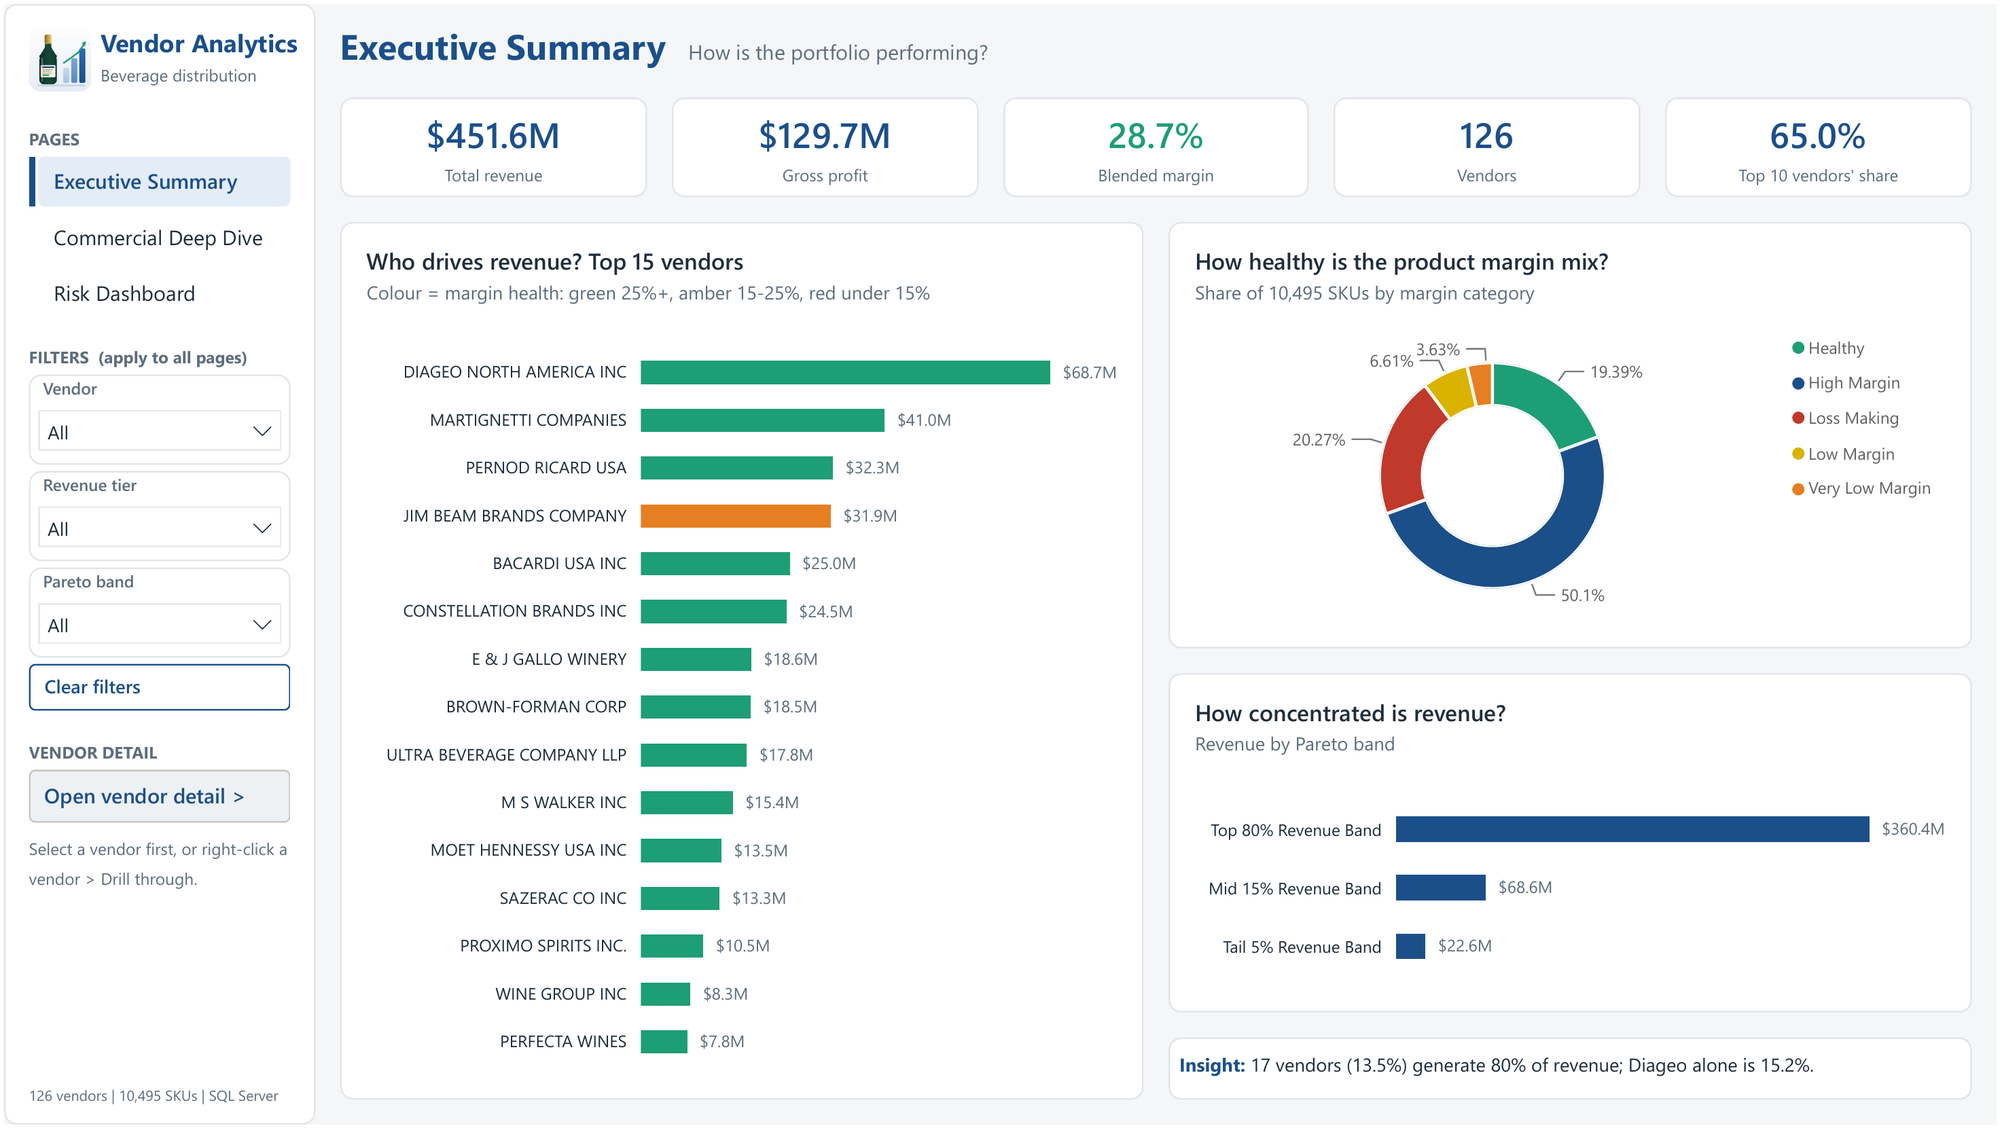

The dashboard page shown, as its layout file describes it:
{"tool":"powerbi","page":{"name":"Executive Summary","canvas":[1280,720],"ordinal":0},"visuals":[{"type":"card","fields":{"Values":["_Revenue Measures.Total Revenue"]},"box":[0,0,242.9,104.3],"z":0},{"type":"card","fields":{"Values":["_Revenue Measures.Total Gross PRofit"]},"box":[254.3,0,251.4,104.3],"z":1000},{"type":"card","fields":{"Values":["_Revenue Measures.Blended Margin %"]},"box":[515.7,0,241.4,104.3],"z":2000},{"type":"card","fields":{"Values":["_Commercial_Measures.Loss Making SKUs"]},"box":[767.1,0,244.3,102.9],"z":3000},{"type":"clusteredBarChart","title":"Top 15 Vendors by Revenue","fields":{"Category":["Vendor_Revenue.VendorName"],"Y":["_Revenue Measures.Total Revenue"]},"box":[0,402.9,592.9,317.1],"z":4000},{"type":"donutChart","title":"Portfolio Health Breakdown by  Margin Category","fields":{"Category":["Portfolio_Health.MarginCategory"],"Y":["_Revenue Measures.SKUs by Health Category"]},"box":[0,112.9,592.9,287.1],"z":5000},{"type":"card","fields":{"Values":["_Pareto_Conc_Measures.Top 10 Revenue Concentration %"]},"box":[1025.7,1.4,254.3,102.9],"z":6000},{"type":"clusteredBarChart","title":"Vendor Details Drillthrough","fields":{"Category":["Vendor_Revenue.VendorName"],"Y":["_Revenue Measures.Total Revenue"]},"box":[640,402.9,640,312.9],"z":7000},{"type":"slicer","fields":{"Values":["Vendor_Revenue.VendorName"]},"box":[1035.7,112.9,234.3,92.9],"z":8000}]}

Visuals, with their boxes on the page's 1280x720 design canvas (x1, y1, x2, y2). These are canvas units, not pixel positions in the 2000x1128 screenshot, which may show the page scaled, cropped or inside an application window:
card - _Revenue Measures.Total Revenue: rect(0, 0, 243, 104)
card - _Revenue Measures.Total Gross PRofit: rect(254, 0, 506, 104)
card - _Revenue Measures.Blended Margin %: rect(516, 0, 757, 104)
card - _Commercial_Measures.Loss Making SKUs: rect(767, 0, 1011, 103)
"Top 15 Vendors by Revenue" clusteredBarChart: rect(0, 403, 593, 720)
"Portfolio Health Breakdown by  Margin Category" donutChart: rect(0, 113, 593, 400)
card - _Pareto_Conc_Measures.Top 10 Revenue Concentration %: rect(1026, 1, 1280, 104)
"Vendor Details Drillthrough" clusteredBarChart: rect(640, 403, 1280, 716)
slicer - Vendor_Revenue.VendorName: rect(1036, 113, 1270, 206)
